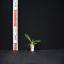leaf: (24, 34, 32, 44), (32, 41, 41, 44), (25, 43, 32, 46), (27, 44, 31, 49), (32, 38, 34, 43), (33, 43, 38, 45)
